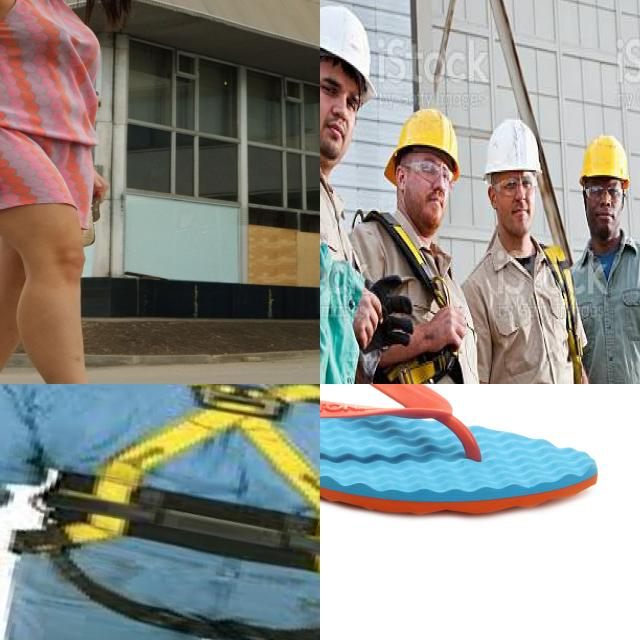Harness: (92, 384, 320, 574), (347, 191, 468, 384), (535, 235, 619, 384), (64, 511, 134, 544)
No_Ear-Protection: (393, 164, 408, 193), (487, 184, 499, 210)
No_Glasses: (320, 72, 360, 116)
Sandals: (320, 384, 598, 517)
